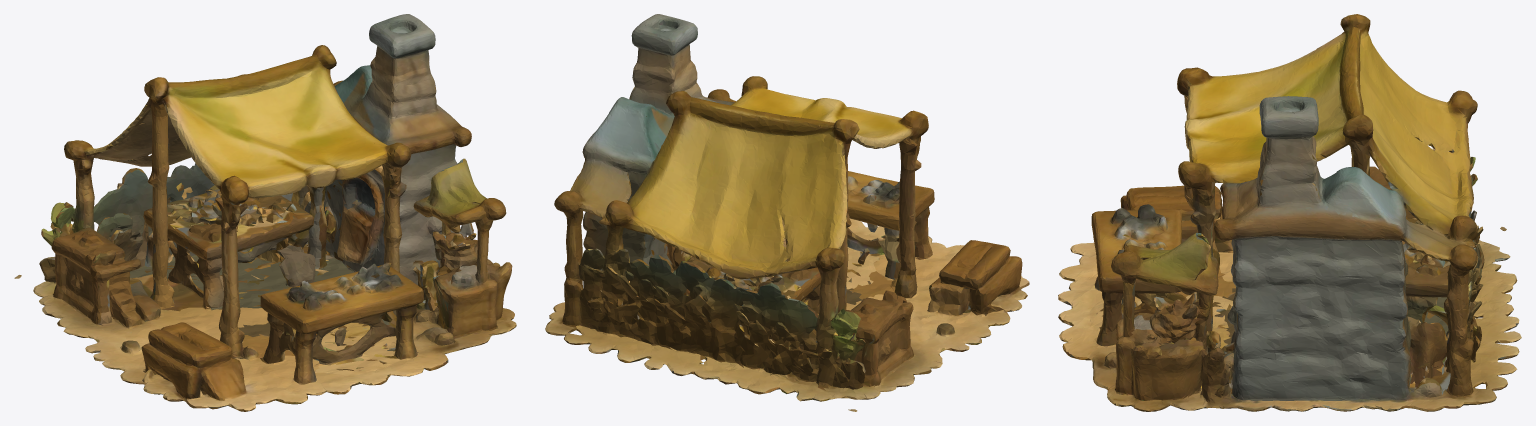
The model's file is wc-marketstall-paint.glb.
3 renders of one model, left to right at view 1: azimuth 30°, elevation 25°; view 2: azimuth 150°, elevation 25°; view 3: azimuth 270°, elevation 25°, orthographic. The views are drawn at different scales.
Parts seen in each view (by area): view 1: geometry_0; view 2: geometry_0; view 3: geometry_0.
Boxes of the visible parts, box(x1,y1,x2,y2) form: geometry_0: box(14, 14, 516, 411); geometry_0: box(545, 14, 1029, 411); geometry_0: box(1058, 14, 1521, 411).
Bounding box in the file's own units: 2 × 1.34 × 1.99.
1 material, 1 textured.
